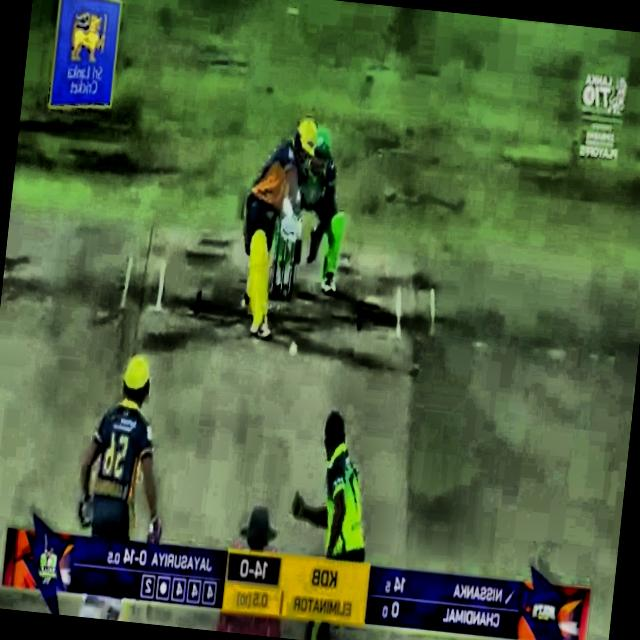Left-stump: (286, 238, 296, 298)
Middle-stump: (276, 239, 288, 298)
Right-stump: (270, 238, 279, 296)
stumps: (268, 233, 297, 302)
